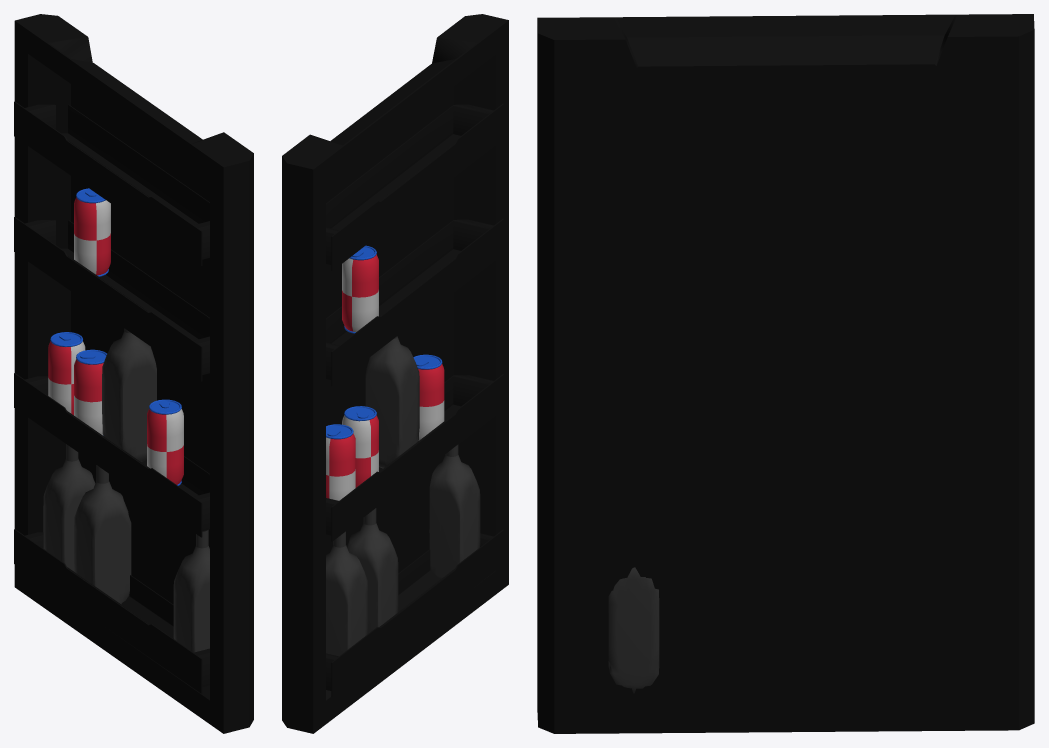
Rendered from Frigo_Door.fbx.
The picture shows the model from 3 angles, left to right: view 1: azimuth 30°, elevation 25°; view 2: azimuth 150°, elevation 25°; view 3: azimuth 270°, elevation 25°; orthographic projection. The views are drawn at different scales.
Parts seen in each view (by area): view 1: Frigo_Door; view 2: Frigo_Door; view 3: Frigo_Door.
Boxes of the visible parts, bbox=[...] form: Frigo_Door: bbox=[14, 14, 253, 733]; Frigo_Door: bbox=[282, 14, 508, 733]; Frigo_Door: bbox=[537, 14, 1034, 733].
Size of the model in its own units: 11.82 by 120 by 77.78.
